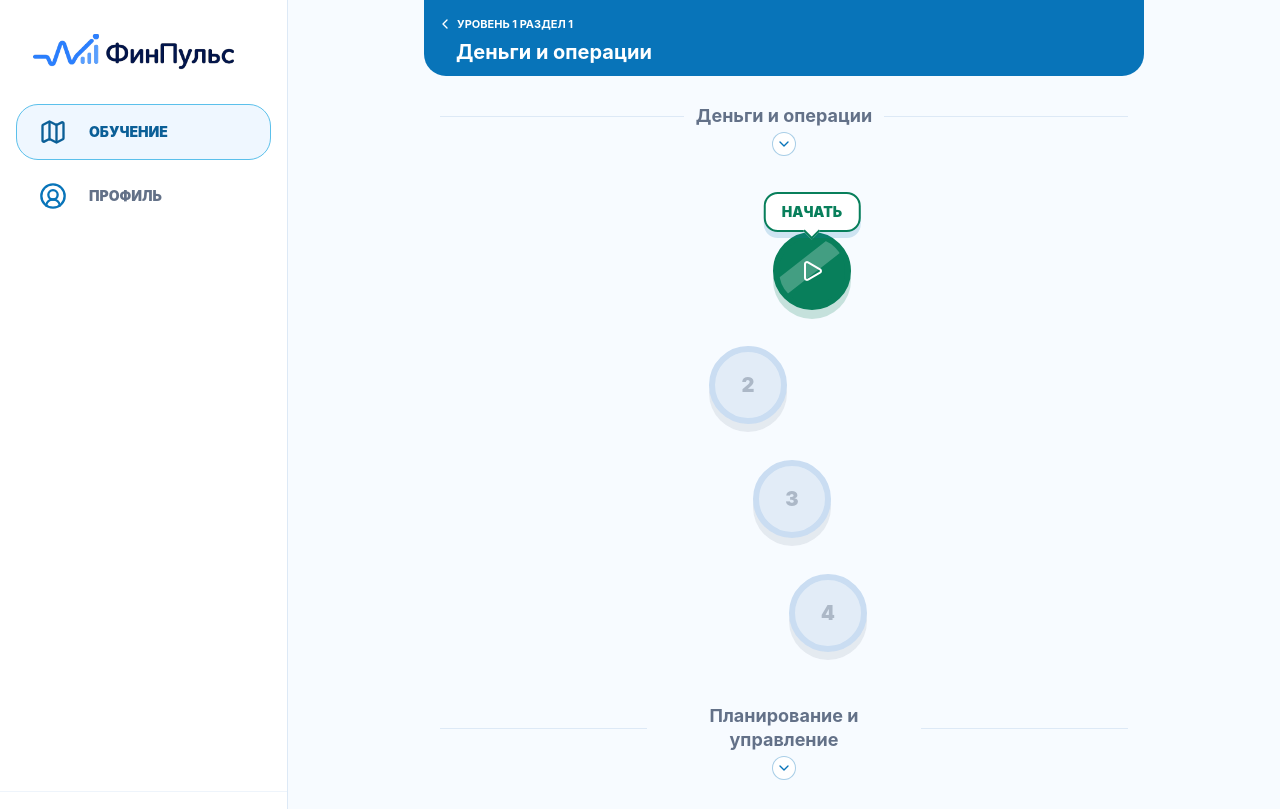
Scenario: App › opens lesson details from the level lesson path before navigation
This screenshot has width=1280, height=809.
Expected: the heading "Деньги и операции" below "Уровень 1 раздел 1" is shown, [456,40,652,64]
Click the button with aria-label "Куда уходят деньги" at [812, 251], box [754,184,870,318]
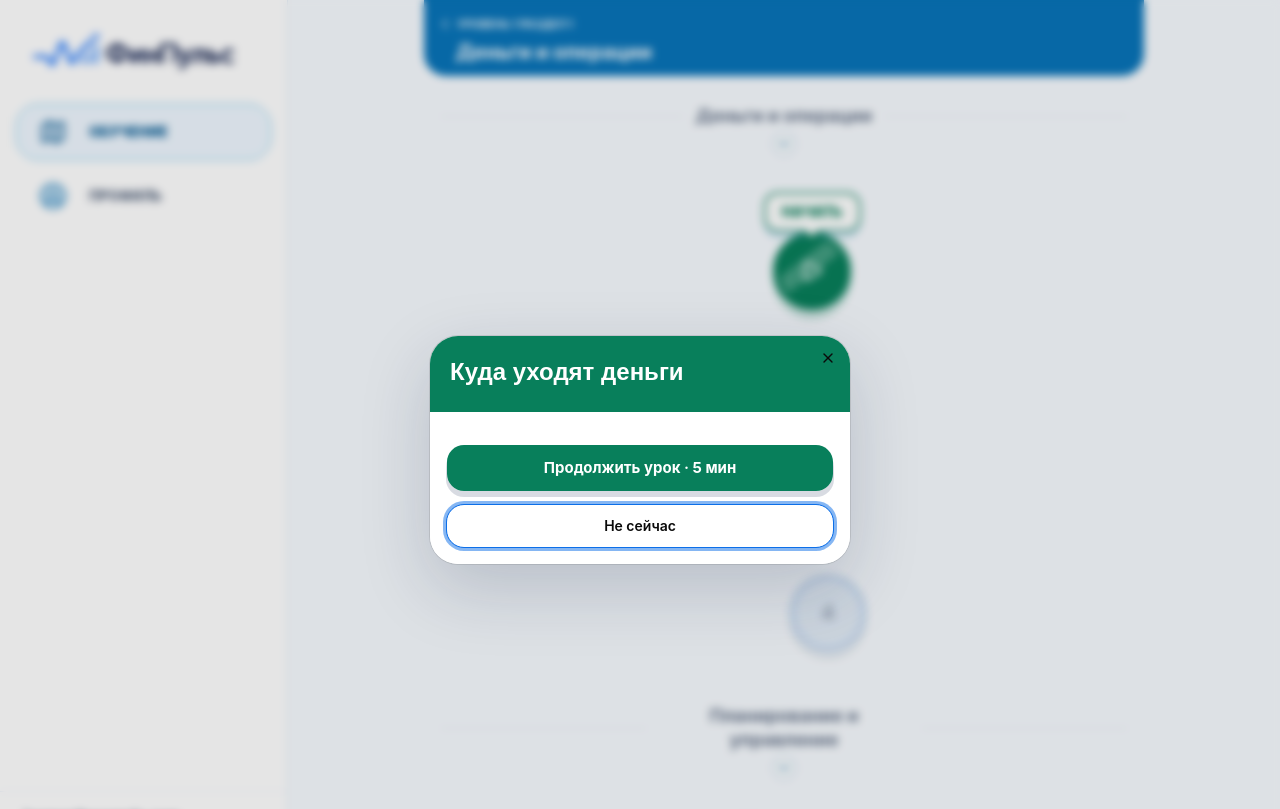
Result: the heading "Куда уходят деньги" is shown at [450,358,684,385]
